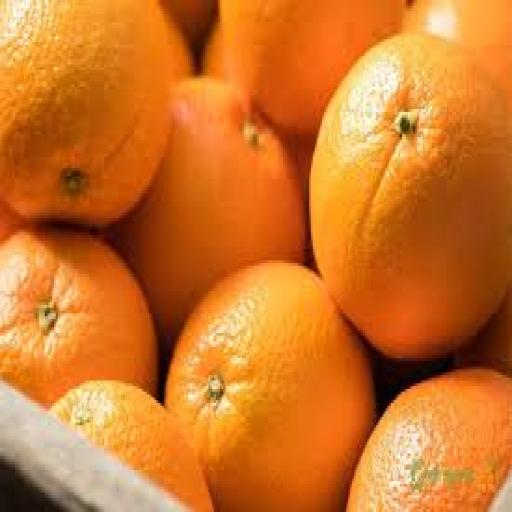orange: (311, 34, 511, 358), (166, 263, 374, 511), (114, 79, 305, 338), (0, 230, 156, 405), (349, 370, 511, 511), (51, 381, 212, 511), (282, 132, 316, 268), (457, 294, 511, 377), (282, 132, 316, 212), (202, 23, 229, 78), (0, 202, 24, 243)
